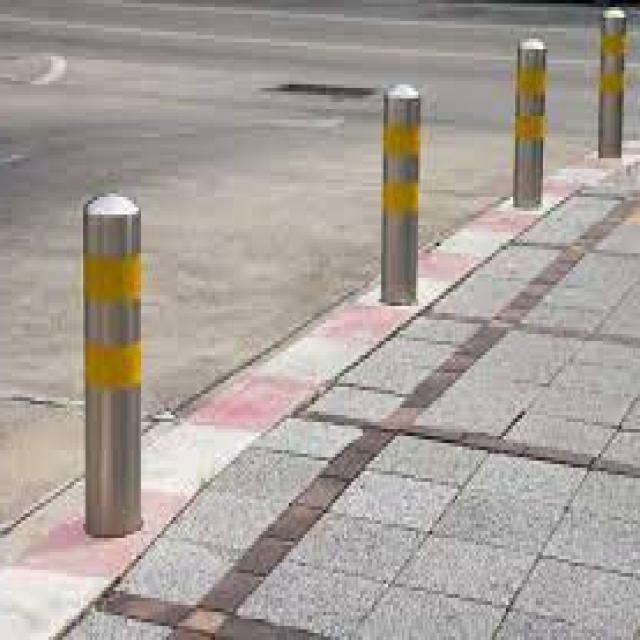bollard: (73, 180, 145, 544), (373, 76, 426, 308), (504, 29, 554, 217), (589, 0, 634, 165)
